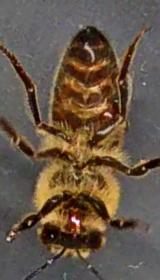varroa_mite: (86, 106, 126, 125)
